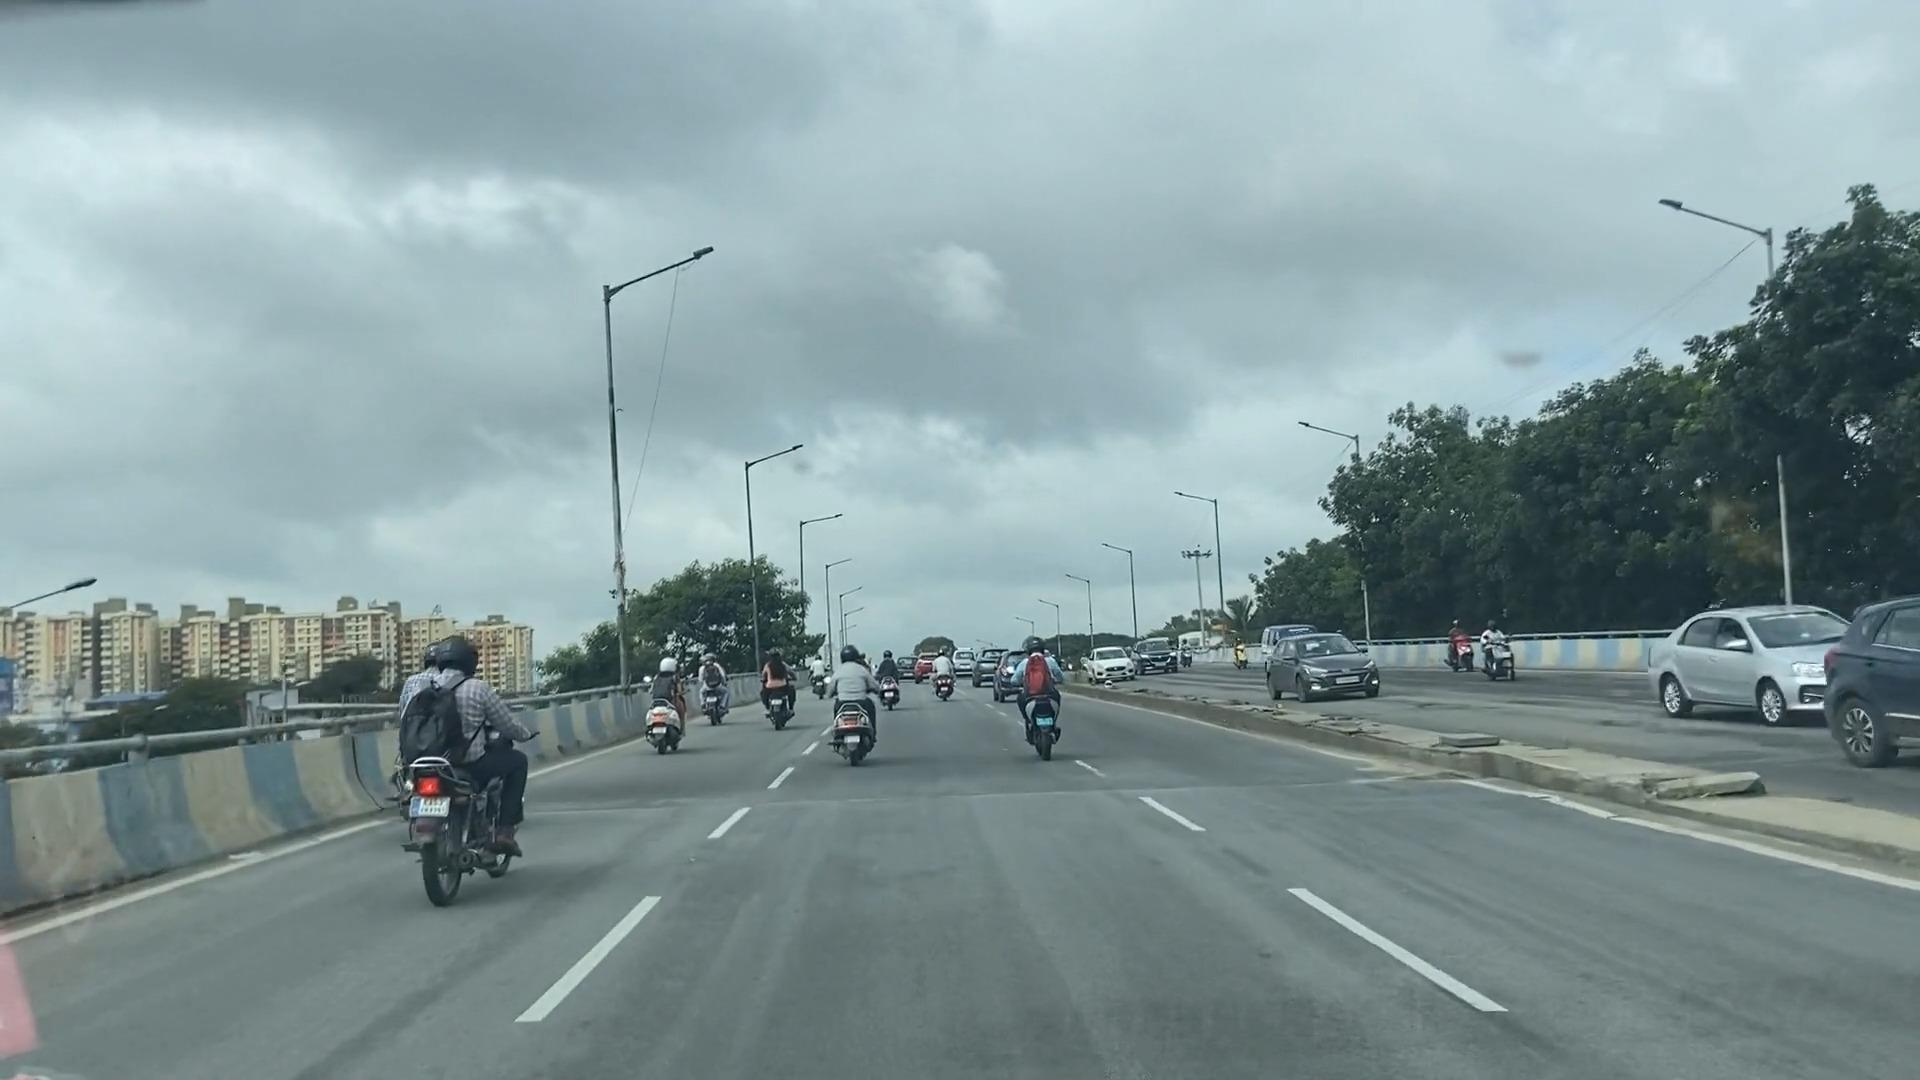LMV: (406, 632, 529, 890), (1004, 630, 1068, 757), (642, 654, 695, 761), (829, 640, 874, 757), (758, 644, 796, 748), (881, 638, 906, 719), (926, 646, 960, 703)
